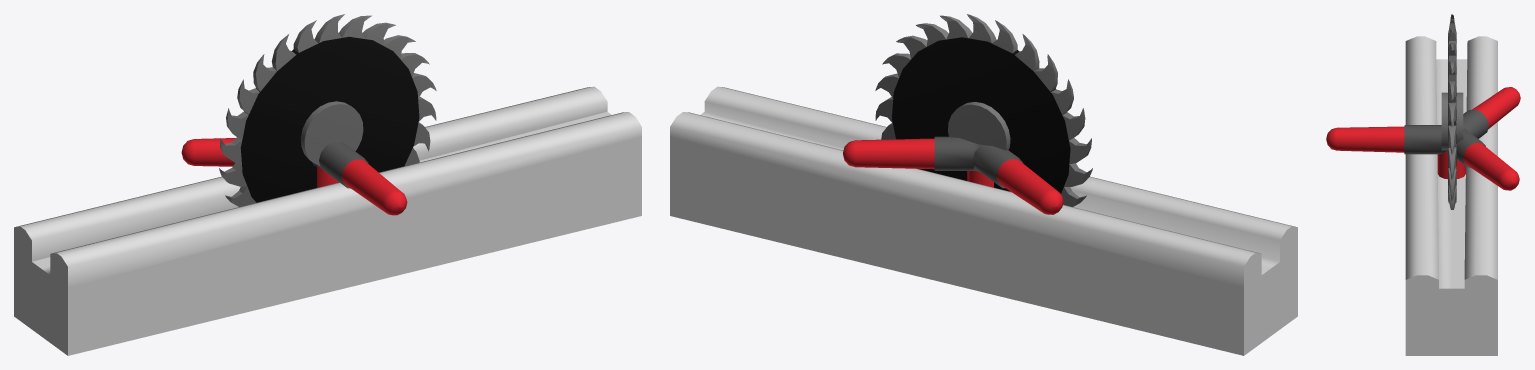
File: obtacle.fbx
3 renders of one model, left to right at view 1: azimuth 30°, elevation 25°; view 2: azimuth 150°, elevation 25°; view 3: azimuth 270°, elevation 25°, orthographic. The views are drawn at different scales.
Visible parts, largest first — view 1: saw_ground_rev, saw, propeller; view 2: saw_ground_rev, saw, propeller; view 3: saw_ground_rev, propeller, saw, propeller_stick_rev.
Boxes of the visible parts, bbox=[...] form: saw_ground_rev: bbox=[14, 86, 641, 355]; saw: bbox=[219, 14, 436, 206]; propeller: bbox=[181, 138, 407, 215]; saw_ground_rev: bbox=[670, 86, 1297, 355]; saw: bbox=[875, 14, 1092, 206]; propeller: bbox=[843, 136, 1063, 214]; saw_ground_rev: bbox=[1405, 36, 1497, 355]; propeller: bbox=[1326, 87, 1520, 190]; saw: bbox=[1441, 14, 1463, 209]; propeller_stick_rev: bbox=[1437, 152, 1465, 179].
Size of the model in its own units: 546 by 226 by 188.
